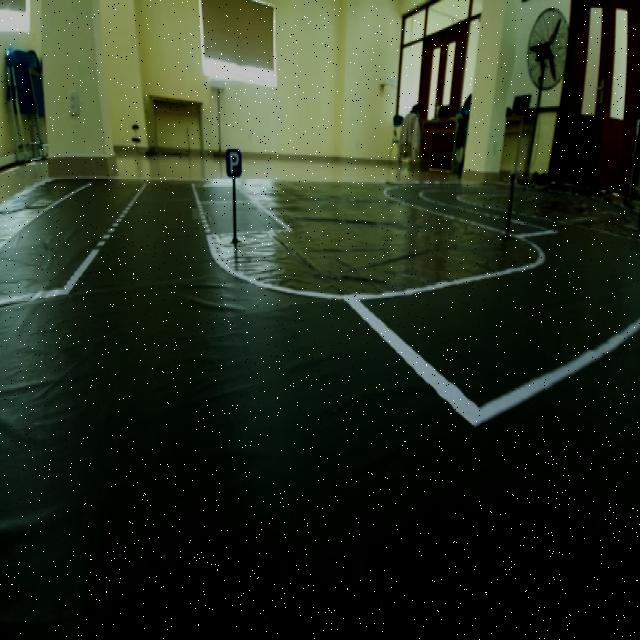parking: (222, 138, 245, 184)
